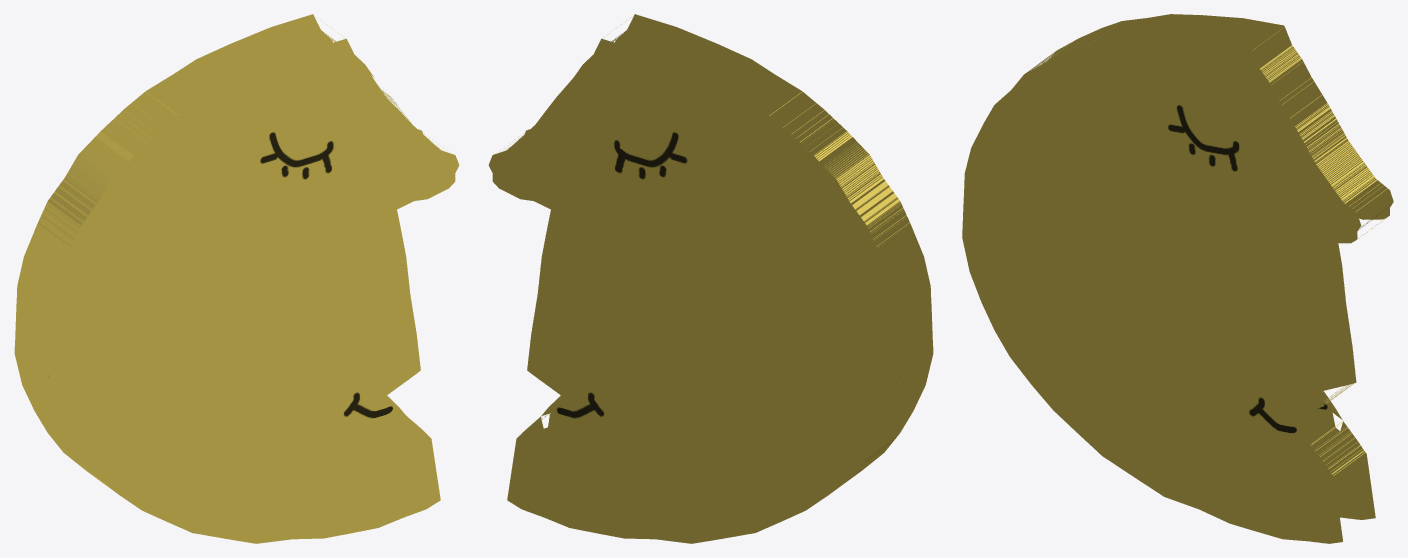
The model's file is moon.fbx.
3 renders of one model, left to right at view 1: azimuth 30°, elevation 25°; view 2: azimuth 150°, elevation 25°; view 3: azimuth 330°, elevation 25°, orthographic. The views are drawn at different scales.
Visible parts, largest first — view 1: polySurface1; view 2: polySurface1; view 3: polySurface1.
Part boxes in pixels (box(x1,y1,x2,y2)): polySurface1: box(14, 14, 459, 543); polySurface1: box(488, 14, 933, 543); polySurface1: box(962, 14, 1393, 543).
Size of the model in its own units: 3.55 by 4.1 by 0.5.
Materials: 1 (1 with a texture image).
